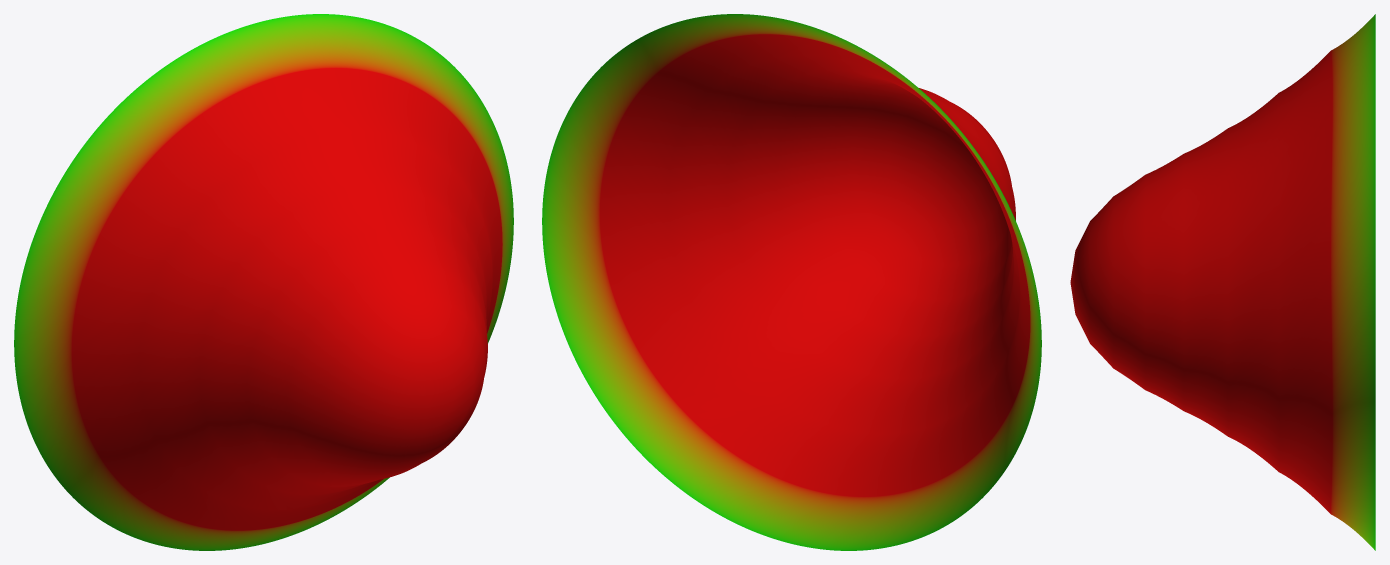
Rendered from SM_Kaiser_Proj_RefractField_01.FBX.
The picture shows the model from 3 angles, left to right: view 1: azimuth 30°, elevation 25°; view 2: azimuth 150°, elevation 25°; view 3: azimuth 270°, elevation 25°; orthographic projection. The views are drawn at different scales.
Visible parts, largest first — view 1: SM_Kaiser_Proj_RefractField_01; view 2: SM_Kaiser_Proj_RefractField_01; view 3: SM_Kaiser_Proj_RefractField_01.
Part boxes in pixels (x1=…): SM_Kaiser_Proj_RefractField_01: x1=14, y1=14, x2=513, y2=550; SM_Kaiser_Proj_RefractField_01: x1=542, y1=14, x2=1041, y2=550; SM_Kaiser_Proj_RefractField_01: x1=1070, y1=14, x2=1375, y2=550.
Bounding box in the file's own units: 813 × 462 × 813.
